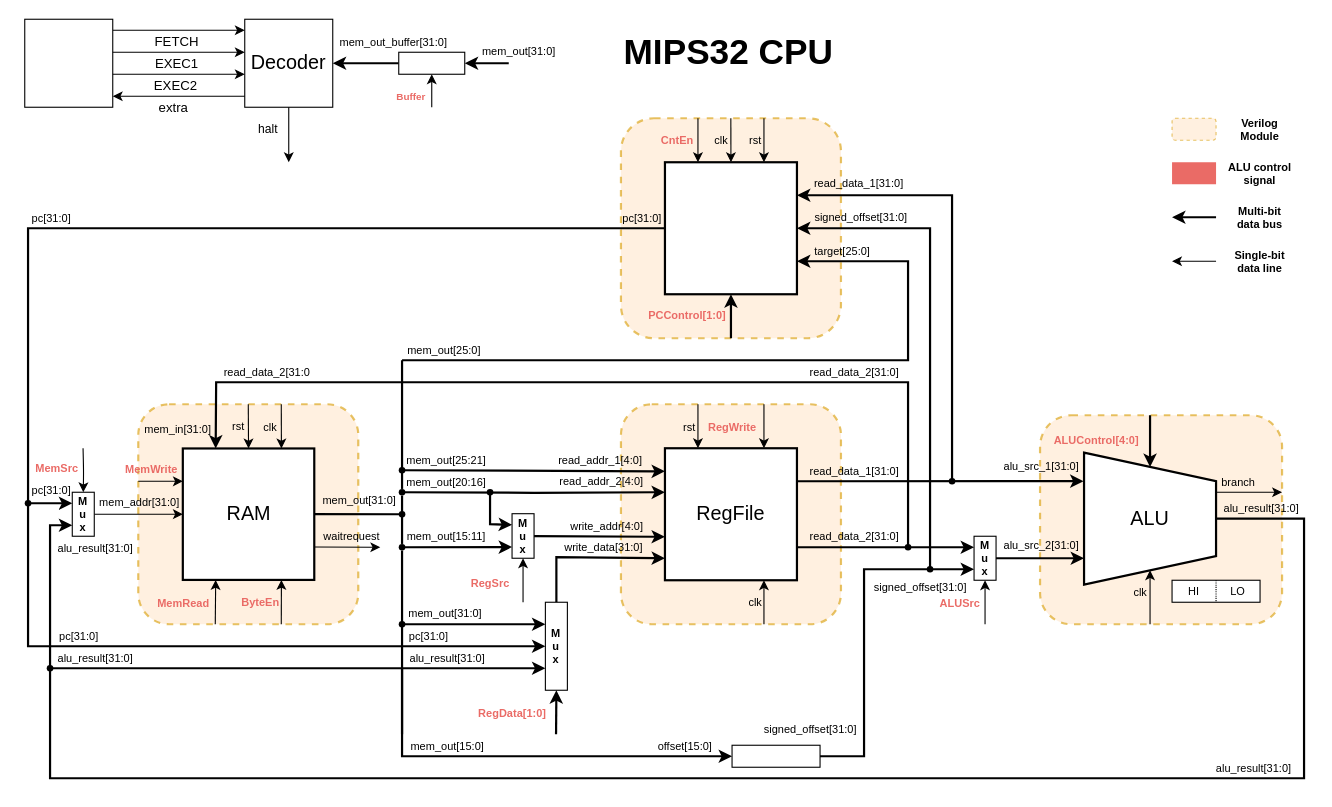
Some shapes in this 1332 by 807 pixel diagram are drawn without their labels. Here are the shapes that lost their labels. From the top down, the centre of each, then its label:
At [68,62]: "State Machine".
At [431,62]: "MemBuffer".
At [730,228]: "PC".
At [775,755]: "SignExt".
